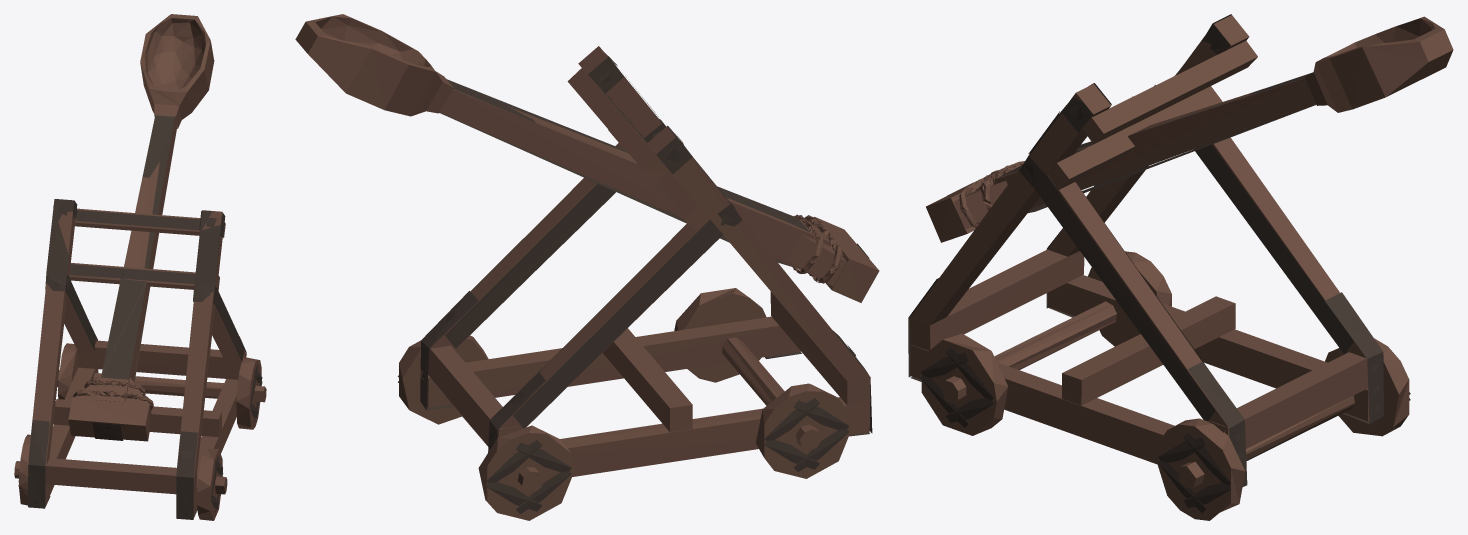
Rendered from catapult.zfix-v14.lod1.glb.
3 views of the same model, side by side, from view 1: azimuth 30°, elevation 25°; view 2: azimuth 150°, elevation 25°; view 3: azimuth 270°, elevation 25° (orthographic). The views are drawn at different scales.
Visible parts, largest first — view 1: Object_4; view 2: Object_4; view 3: Object_4.
Part boxes in pixels (<box>): Object_4: <box>14,14,266,520</box>; Object_4: <box>295,14,879,520</box>; Object_4: <box>908,14,1453,520</box>.
Size of the model in its own units: 6.31 by 6.97 by 7.
